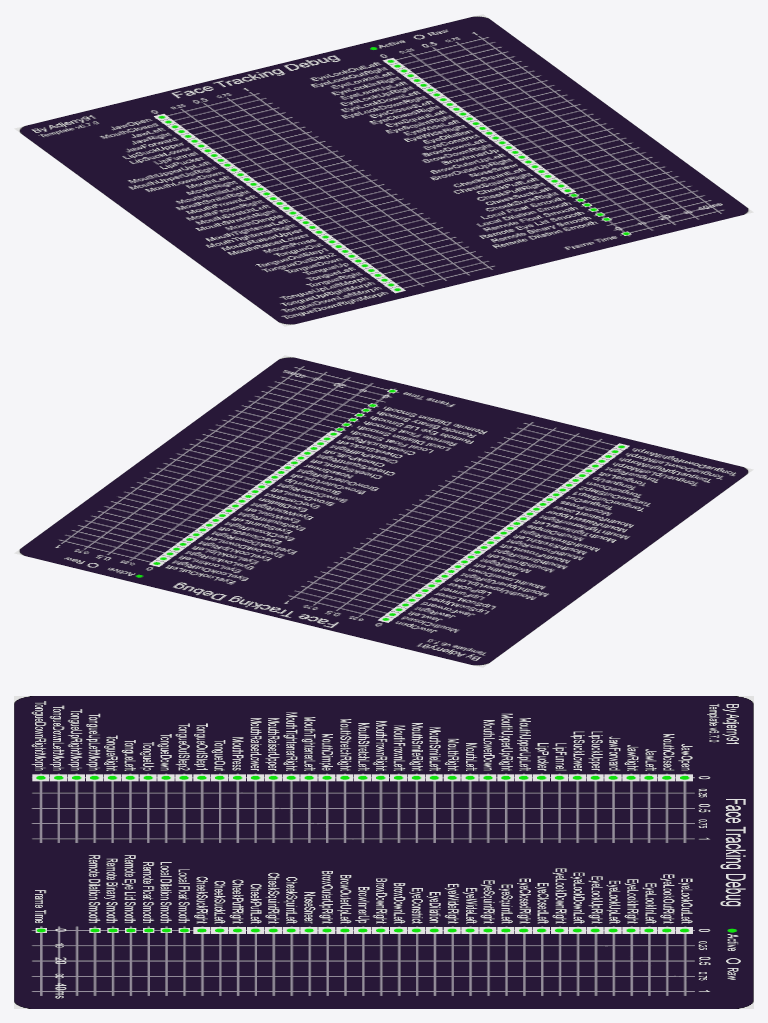
Rendered from FT_UE_Debug.fbx.
3 renders of one model, top to bottom at view 1: azimuth 30°, elevation 25°; view 2: azimuth 150°, elevation 25°; view 3: azimuth 270°, elevation 25°, orthographic. The views are drawn at different scales.
Parts seen in each view (by area): view 1: Debug; view 2: Debug; view 3: Debug.
Boxes of the visible parts, box(x1,y1,x2,y2) form: Debug: box(14, 14, 753, 326); Debug: box(14, 355, 753, 667); Debug: box(14, 696, 753, 1008).
Size of the model in its own units: 0.75 by 4.94e-07 by 0.75.
